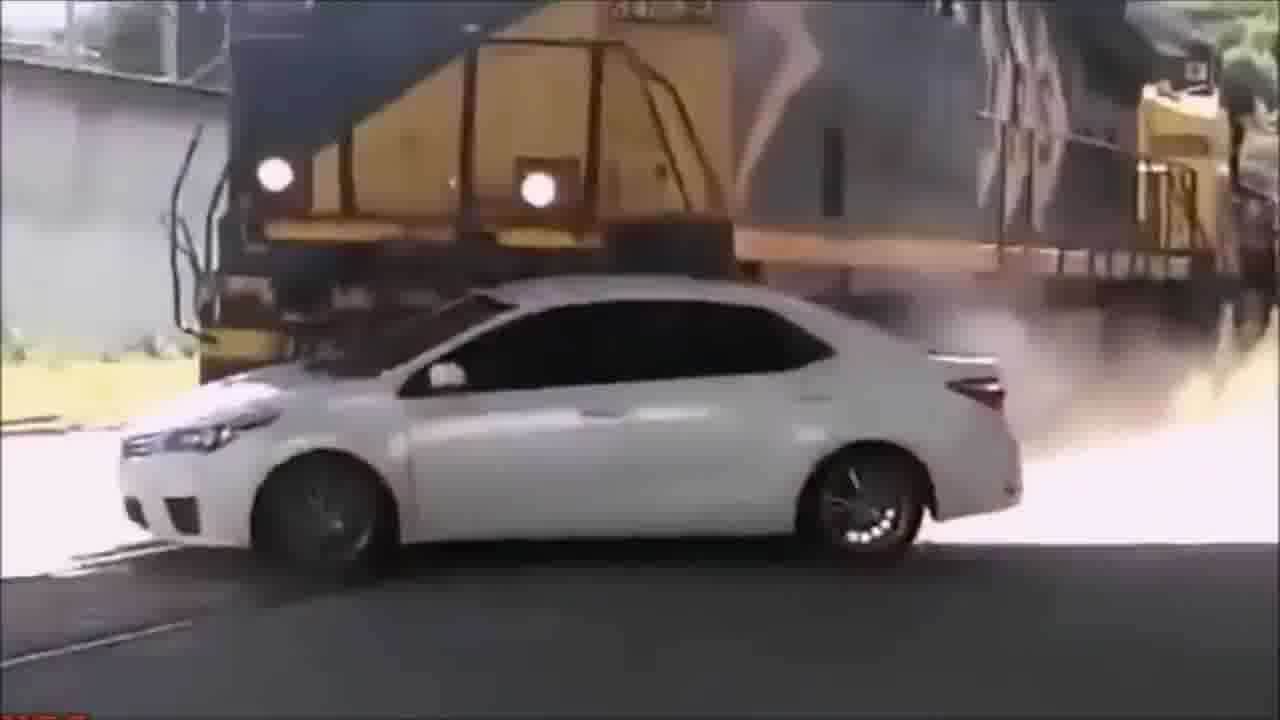crossing railway track: (108, 287, 1082, 573)
